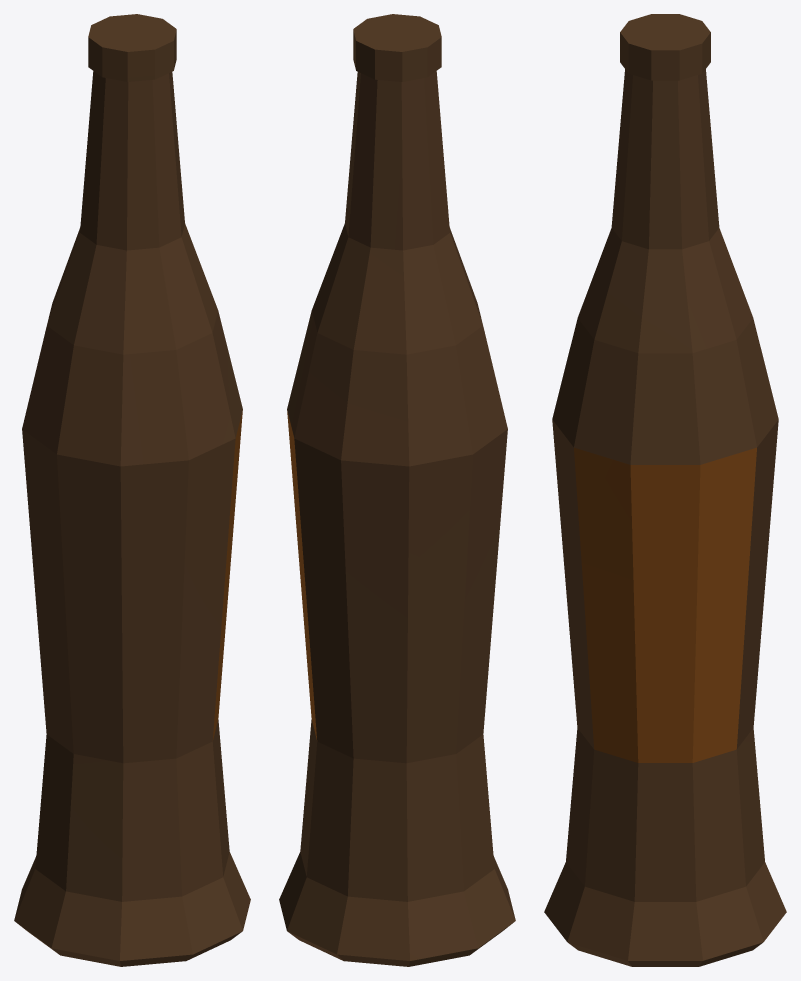
File: bottle_2.fbx
3 views of the same model, side by side, from view 1: azimuth 30°, elevation 25°; view 2: azimuth 150°, elevation 25°; view 3: azimuth 270°, elevation 25° (orthographic).
Parts seen in each view (by area): view 1: bottle_2; view 2: bottle_2; view 3: bottle_2.
Part boxes in pixels (box(x1,y1,x2,y2)): bottle_2: box(14, 14, 250, 966); bottle_2: box(279, 14, 515, 966); bottle_2: box(544, 14, 786, 966).
Size of the model in its own units: 0.0816 by 0.3473 by 0.0857.
